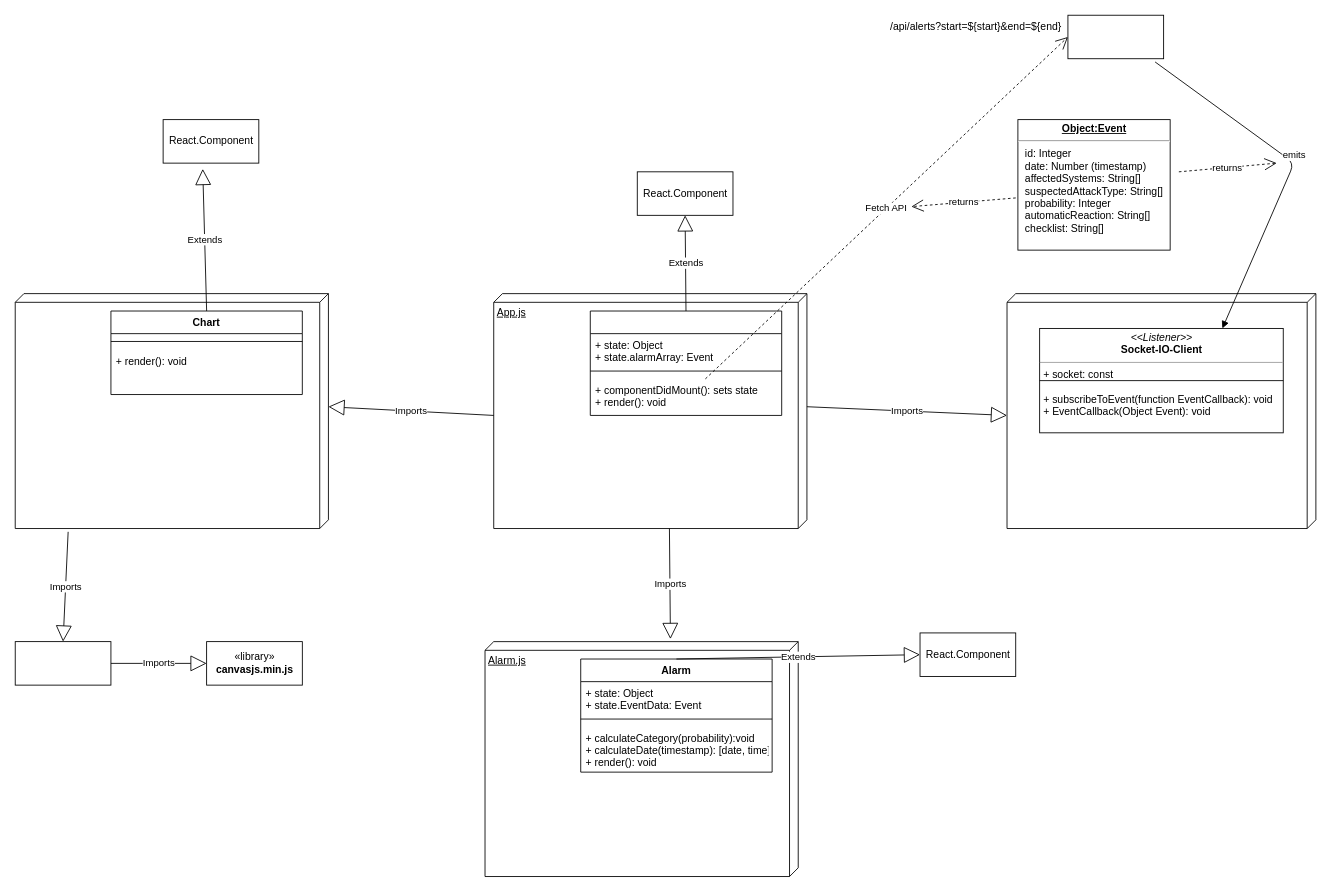
The diagram is 1331 pixels wide and 892 high, and some of its shapes have lost their labels. Each missing label, with the box of its shape:
Api.js: (1006, 293, 1316, 529)
App: (589, 310, 782, 415)
Chart.js: (14, 293, 328, 529)
«interface» EventAPI: (1067, 14, 1164, 59)
«library» canvasjs.react.js: (14, 641, 111, 685)
